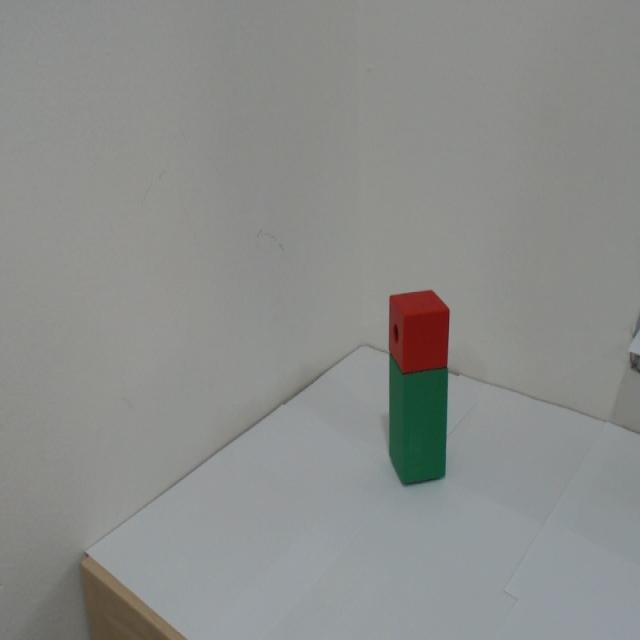cube: (374, 274, 477, 371)
